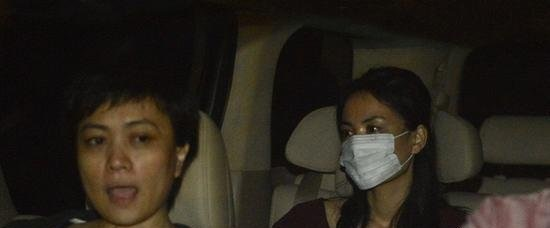face: (77, 102, 173, 225)
face_mask: (339, 98, 405, 192)
